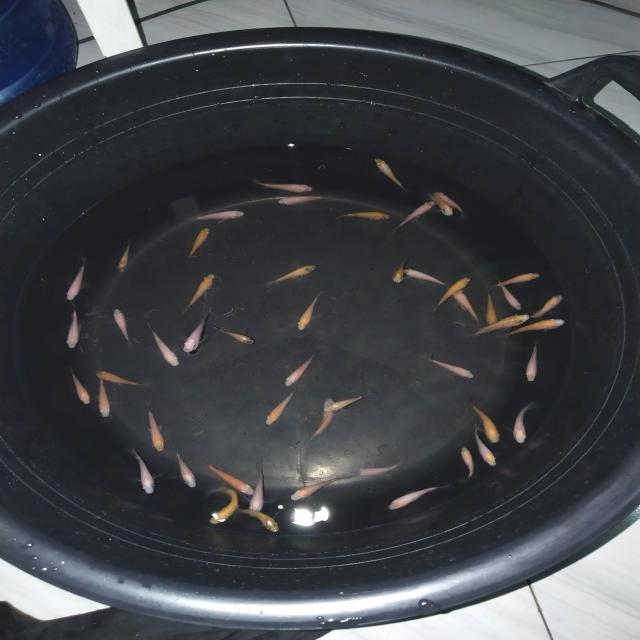nila: (198, 457, 258, 497), (384, 482, 452, 515), (473, 308, 535, 339), (386, 198, 436, 234), (429, 270, 474, 310), (144, 322, 182, 368), (503, 314, 572, 338), (180, 269, 218, 312), (288, 474, 342, 504), (307, 392, 338, 444), (260, 262, 319, 289), (427, 353, 480, 383), (468, 400, 502, 446), (262, 387, 302, 425), (128, 448, 158, 498), (181, 311, 212, 358), (144, 402, 170, 458), (282, 349, 320, 387), (372, 152, 408, 192), (60, 254, 88, 305), (183, 206, 254, 226), (294, 290, 327, 332), (208, 484, 241, 526), (472, 420, 500, 469), (448, 285, 481, 324), (232, 507, 280, 533), (252, 176, 324, 193), (492, 274, 526, 310), (247, 460, 268, 517), (96, 368, 146, 391), (512, 396, 534, 446), (110, 304, 134, 349), (271, 192, 336, 208), (333, 207, 398, 223), (62, 302, 82, 354), (354, 456, 406, 476), (402, 266, 448, 288), (186, 225, 214, 260), (68, 368, 92, 408), (532, 292, 566, 320), (176, 450, 199, 490), (438, 188, 470, 216), (327, 392, 367, 414), (523, 341, 543, 384), (491, 270, 542, 286), (428, 192, 454, 222), (218, 326, 258, 345), (483, 288, 500, 331), (460, 445, 478, 485), (98, 376, 114, 419), (388, 258, 412, 286), (116, 236, 132, 278)
